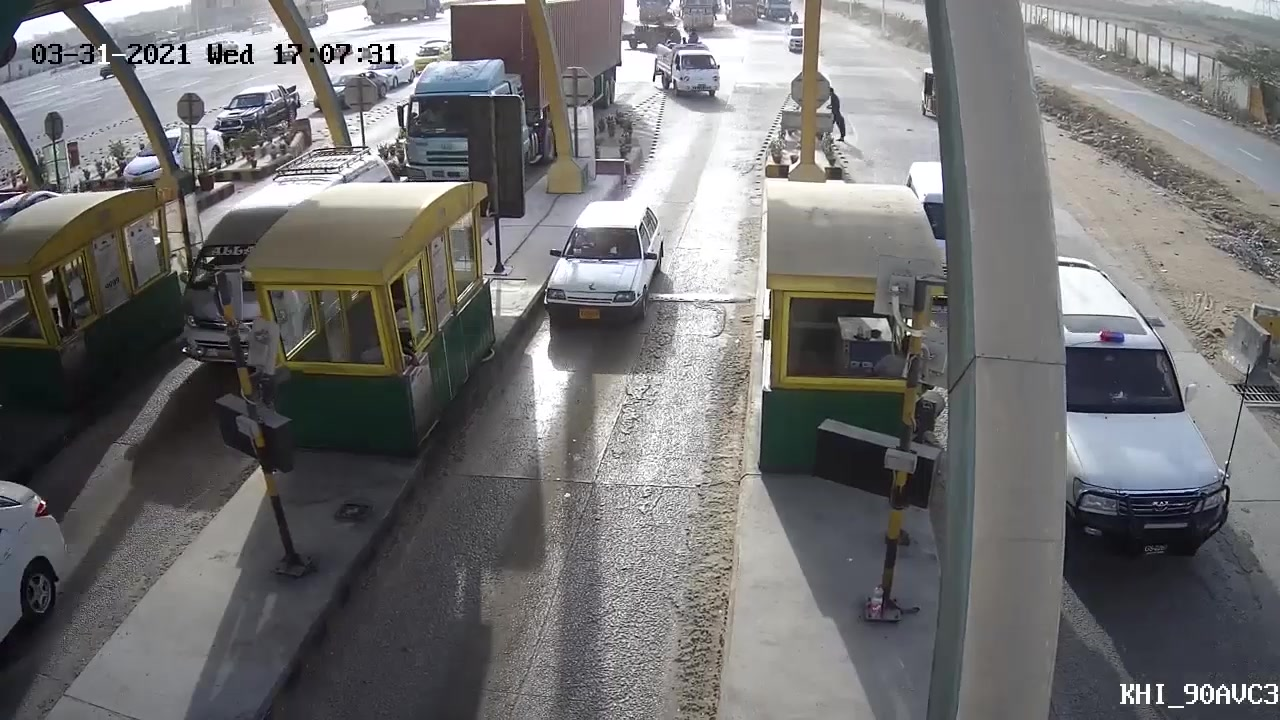F1: (544, 192, 664, 326)
